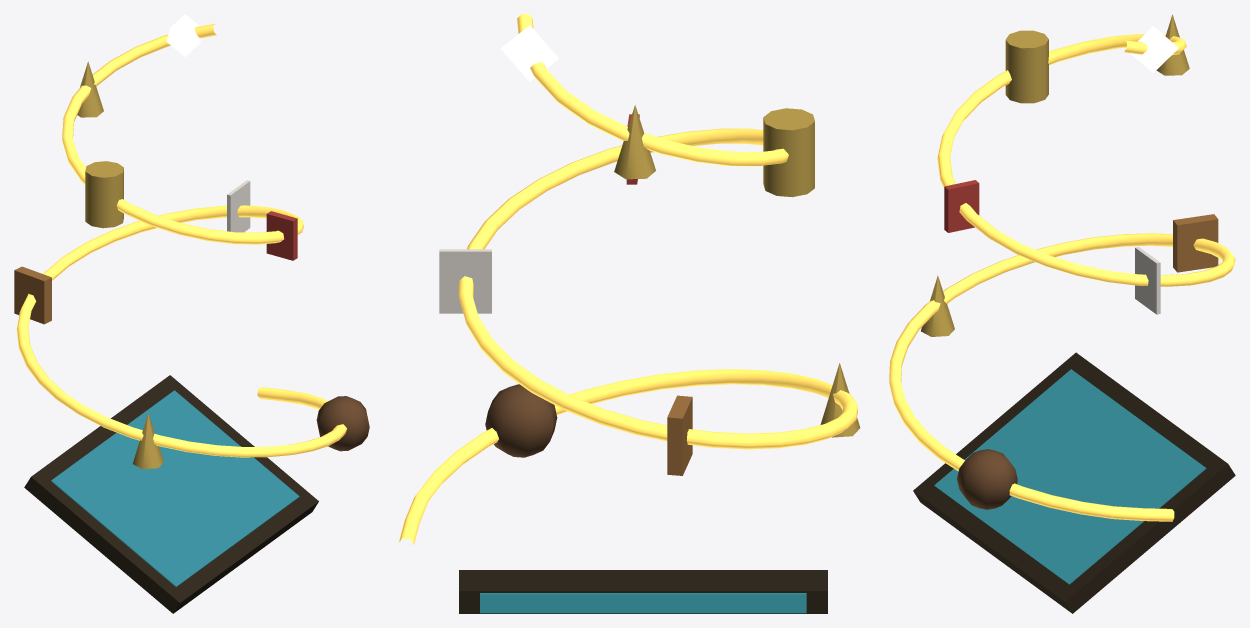
Rendered from tablet_spiral.glb.
3 renders of one model, left to right at view 1: azimuth 30°, elevation 25°; view 2: azimuth 150°, elevation 25°; view 3: azimuth 270°, elevation 25°, orthographic. The views are drawn at different scales.
Size of the model in its own units: 0.8722 by 1.37 by 0.7969.
